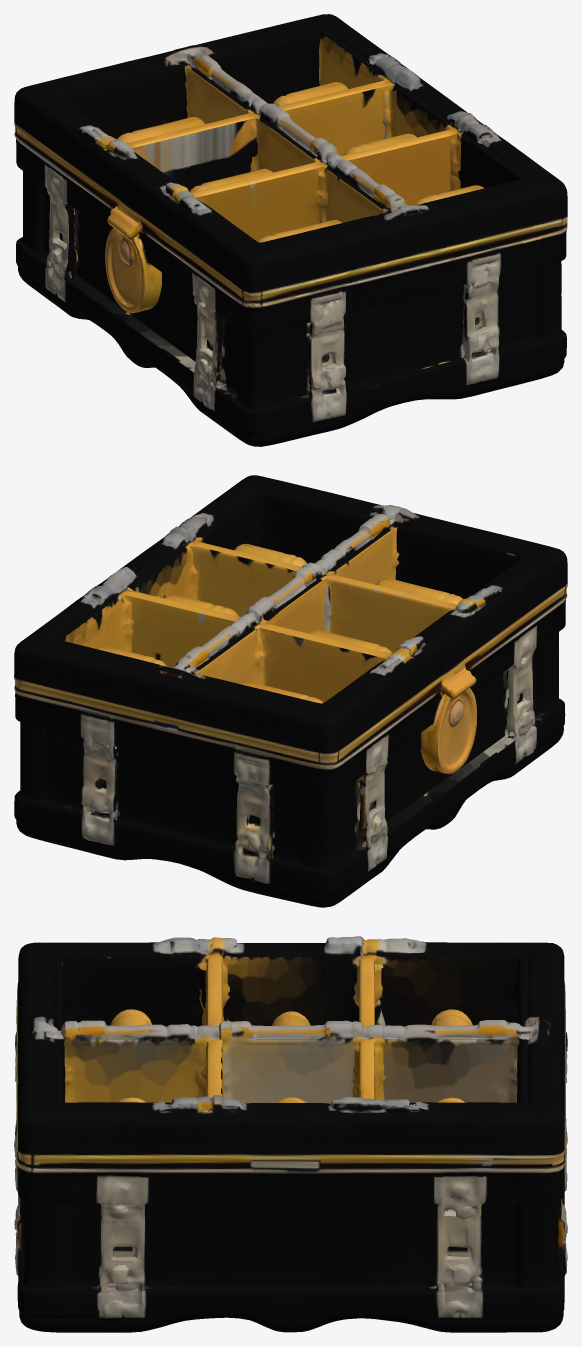
File: cell_ammo.glb
The picture shows the model from 3 angles, top to bottom: view 1: azimuth 30°, elevation 25°; view 2: azimuth 150°, elevation 25°; view 3: azimuth 270°, elevation 25°; orthographic projection. The views are drawn at different scales.
Parts seen in each view (by area): view 1: textured_mesh.obj; view 2: textured_mesh.obj; view 3: textured_mesh.obj.
Part boxes in pixels (left/top/right/bottom): textured_mesh.obj: left=14, top=14, right=567, bottom=446; textured_mesh.obj: left=14, top=475, right=567, bottom=907; textured_mesh.obj: left=14, top=936, right=567, bottom=1332.
Bounding box in the file's own units: 1.6 × 0.9216 × 1.99.
Materials: 1 (1 with a texture image).
